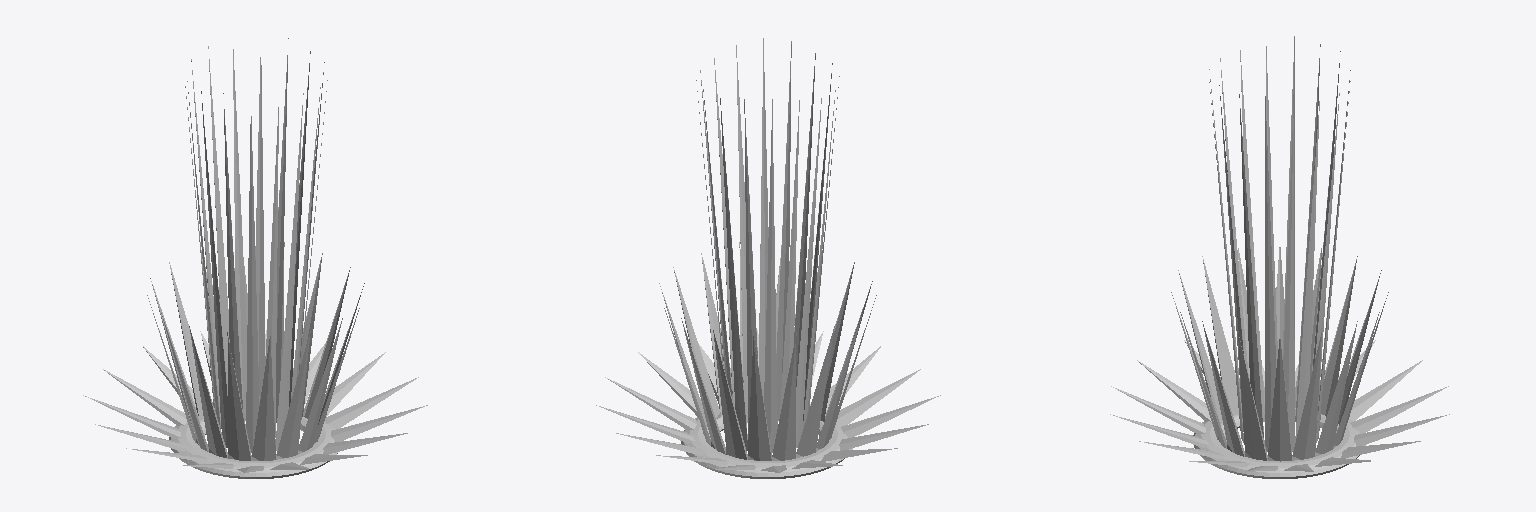
Rendered from Shockwave.obj.
The picture shows the model from 3 angles: view 1: azimuth 30°, elevation 25°; view 2: azimuth 150°, elevation 25°; view 3: azimuth 270°, elevation 25°; orthographic projection.
Parts seen in each view (by area): view 1: Circle.002, Circle.001, Circle, Torus; view 2: Circle.002, Circle.001, Circle, Torus; view 3: Circle.002, Circle.001, Circle, Torus.
Boxes of the visible parts, x1,y1,x2,y2 form: Circle.002: [185, 38, 327, 452]; Circle.001: [147, 242, 364, 460]; Circle: [83, 330, 427, 472]; Torus: [169, 408, 341, 478]; Circle.002: [696, 38, 839, 452]; Circle.001: [659, 242, 876, 460]; Circle: [596, 330, 940, 472]; Torus: [681, 412, 852, 478]; Circle.002: [1209, 36, 1350, 451]; Circle.001: [1171, 247, 1388, 461]; Circle: [1110, 340, 1449, 471]; Torus: [1193, 408, 1365, 478].
Size of the model in its own units: 4.88 by 6.02 by 4.88.